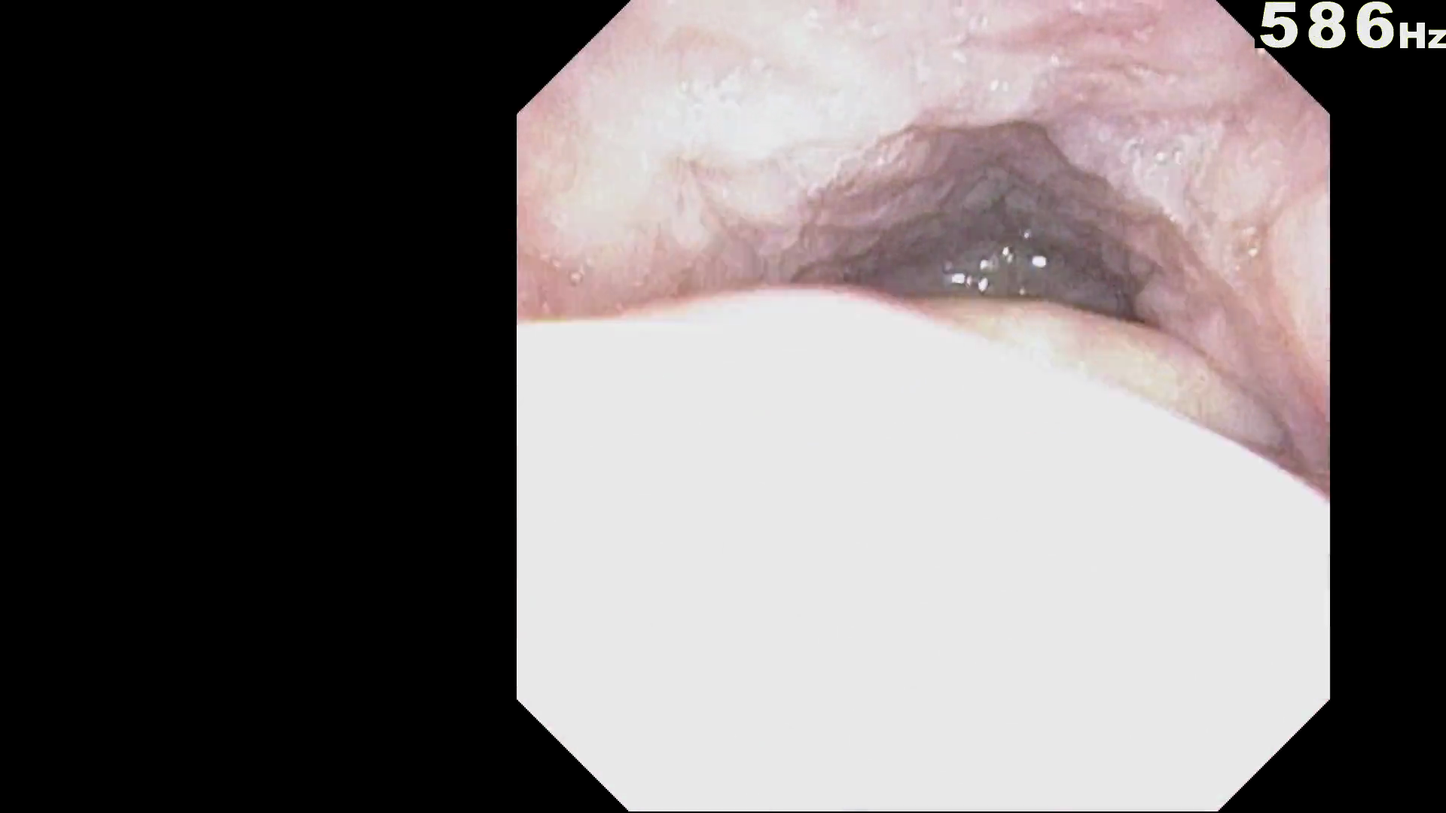epiglottis: (641, 262, 1293, 567)
